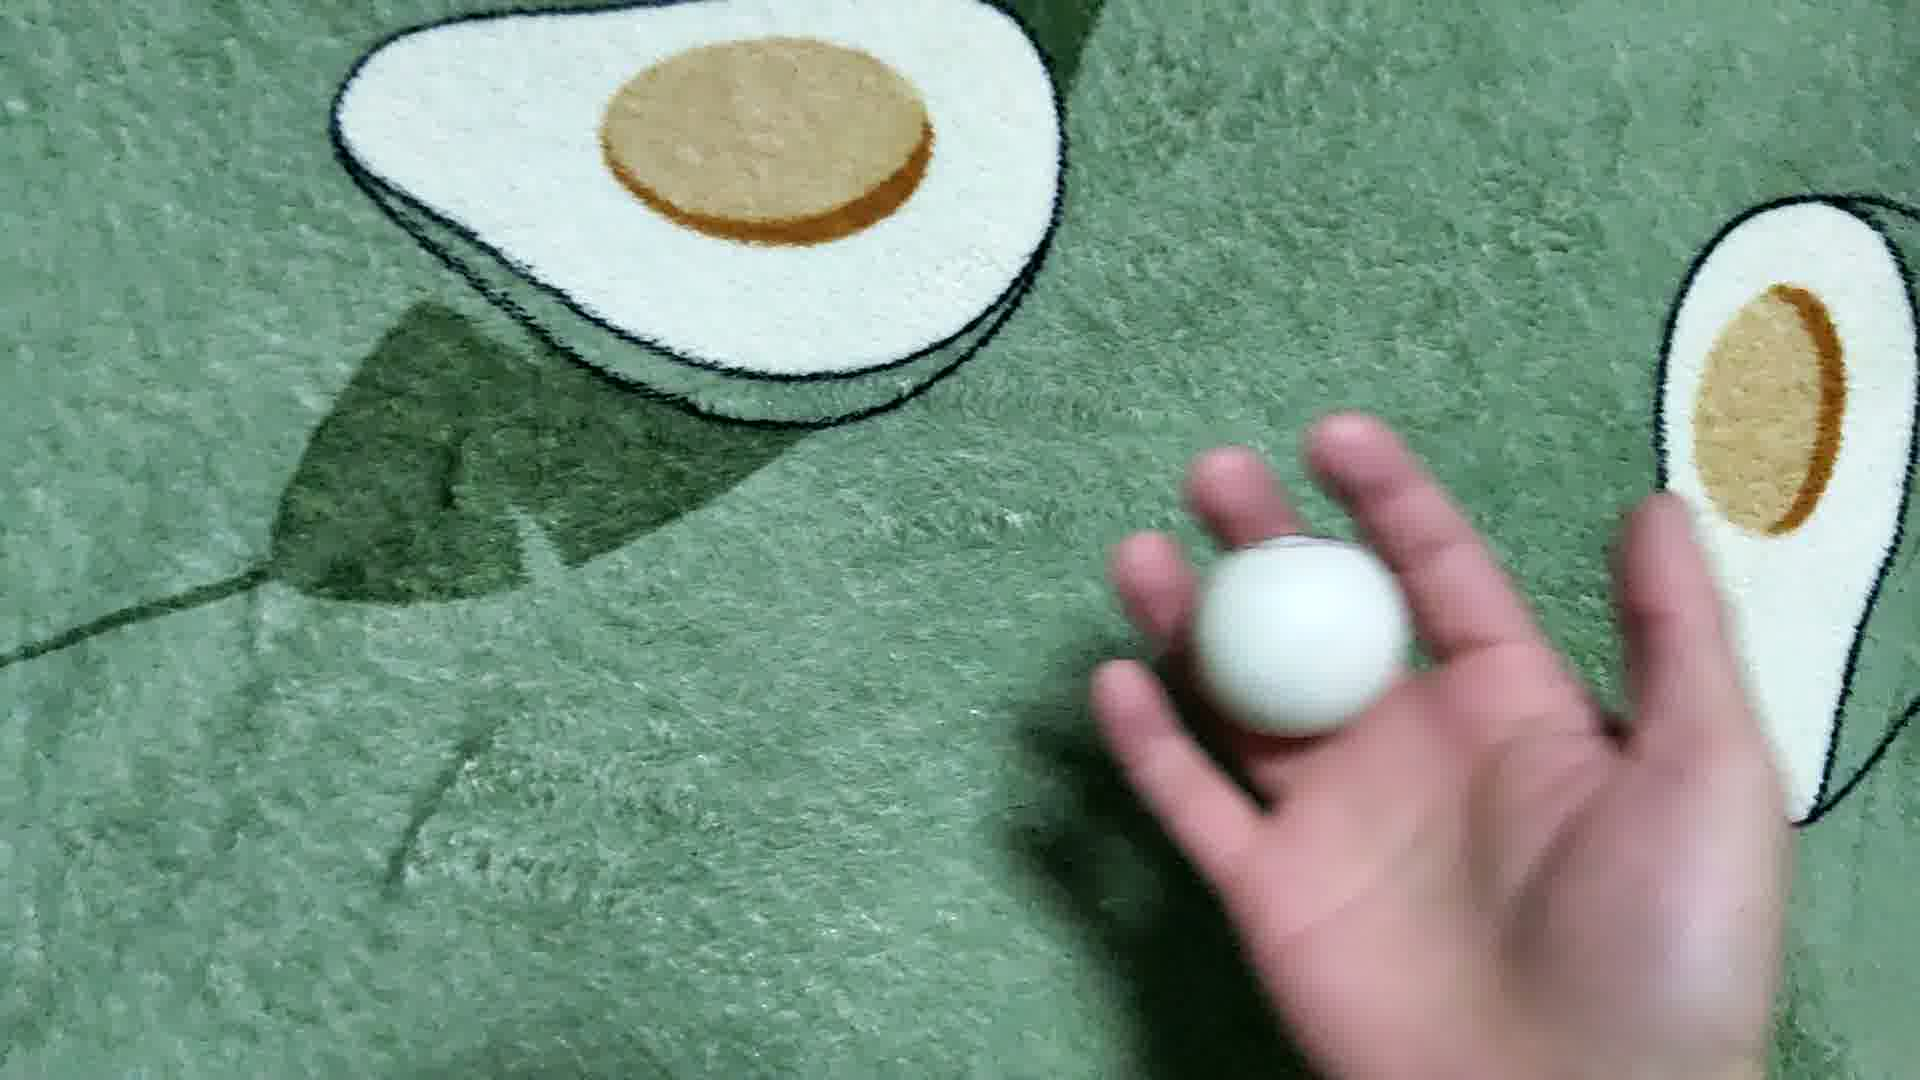Ball: (1188, 529, 1414, 737)
